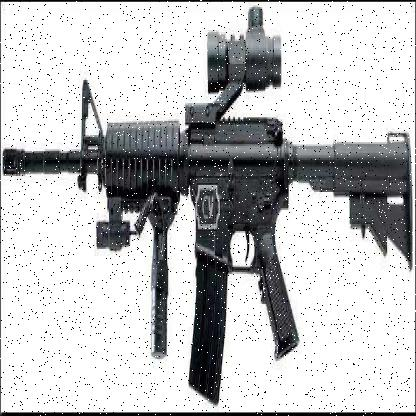rifle: (1, 12, 413, 386)
